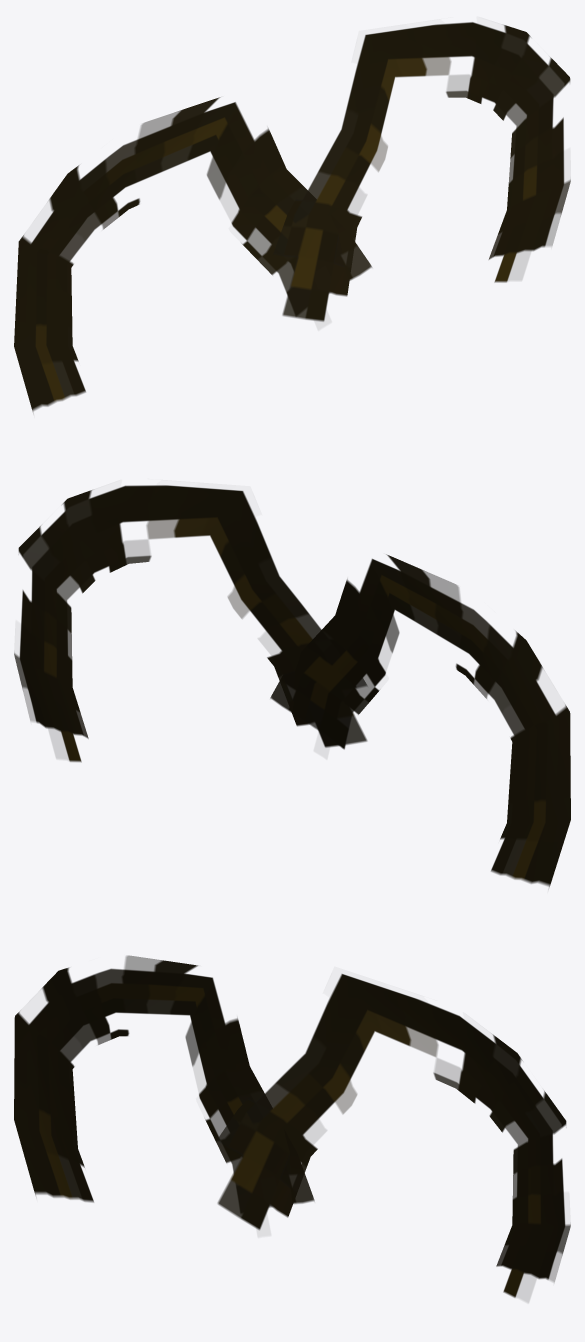
Rendered from deadleaves.glb.
The picture shows the model from 3 angles, top to bottom: view 1: azimuth 30°, elevation 25°; view 2: azimuth 150°, elevation 25°; view 3: azimuth 330°, elevation 25°; orthographic projection.
Parts seen in each view (by area): view 1: leaves7_geo, leaves6_geo; view 2: leaves6_geo, leaves7_geo; view 3: leaves7_geo, leaves6_geo.
Part boxes in pixels (x1=…): leaves7_geo: x1=273, y1=22, x2=570, y2=321; leaves6_geo: x1=14, y1=97, x2=372, y2=412; leaves6_geo: x1=270, y1=554, x2=570, y2=887; leaves7_geo: x1=14, y1=485, x2=367, y2=762; leaves7_geo: x1=217, y1=974, x2=570, y2=1301; leaves6_geo: x1=14, y1=955, x2=314, y2=1212.
Size of the model in its own units: 0.3346 by 0.2036 by 0.0405.
Materials: 2 (2 with a texture image).
